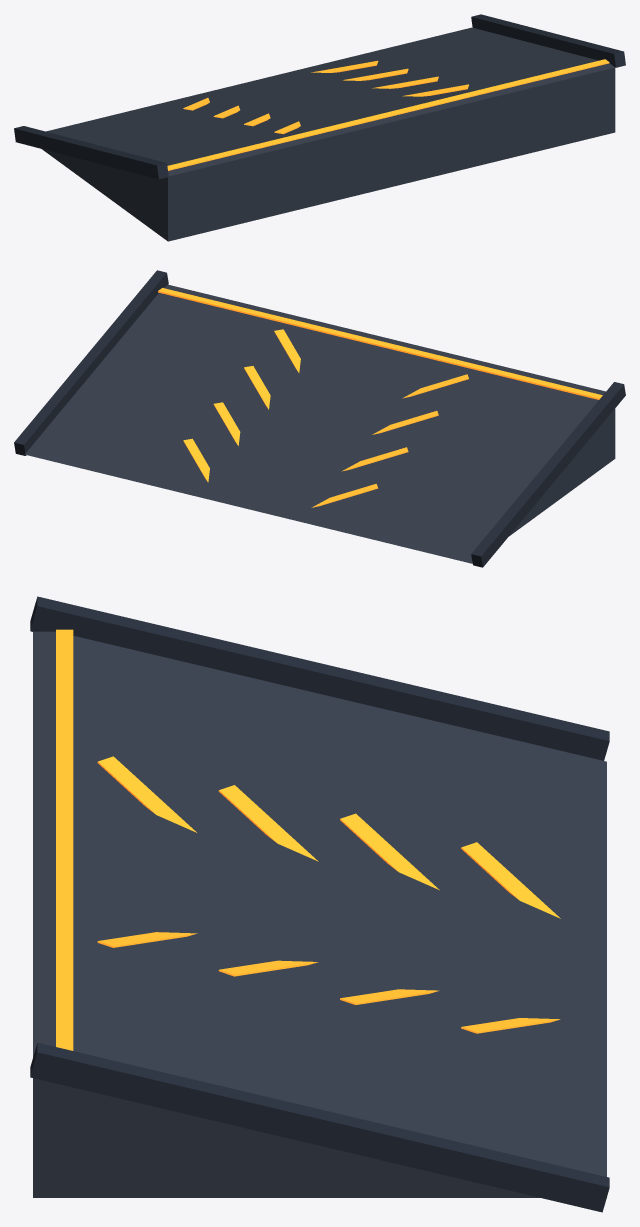
The model's file is jump_ramp.glb.
3 views of the same model, one above another, from view 1: azimuth 30°, elevation 25°; view 2: azimuth 150°, elevation 25°; view 3: azimuth 270°, elevation 25° (orthographic). The views are drawn at different scales.
Visible parts, largest first — view 1: ramp; view 2: ramp; view 3: ramp.
Part boxes in pixels (x1,y1,x2,y2): ramp: (14,14,625,241); ramp: (14,270,625,567); ramp: (30,596,609,1212).
Size of the model in its own units: 18.8 by 3.08 by 10.1.
